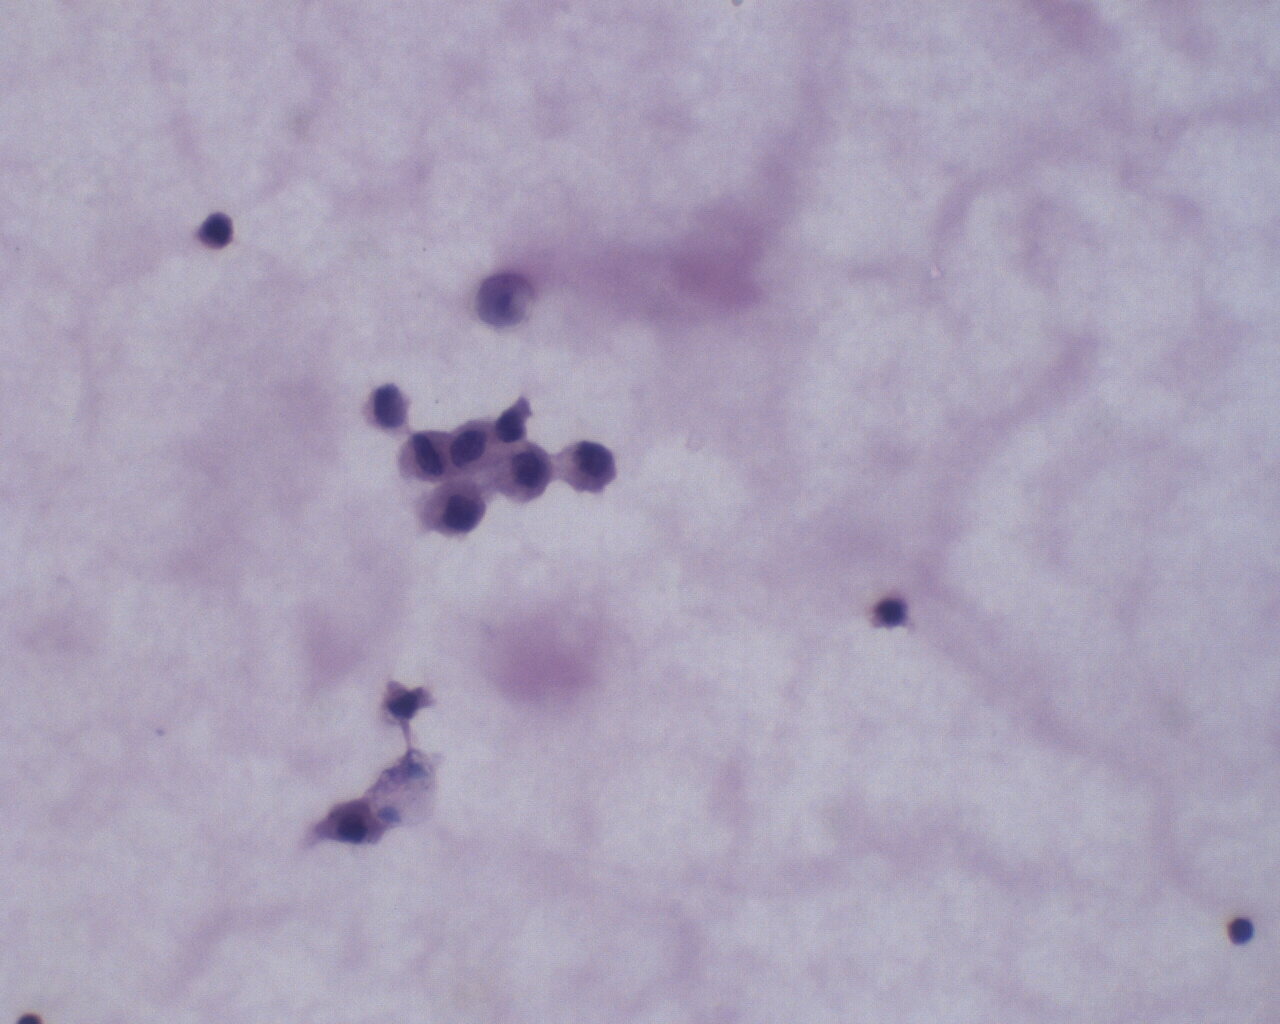lymph: (870, 588, 911, 635), (196, 210, 239, 250)
meso: (487, 438, 555, 507), (556, 434, 623, 502), (423, 476, 487, 540)
